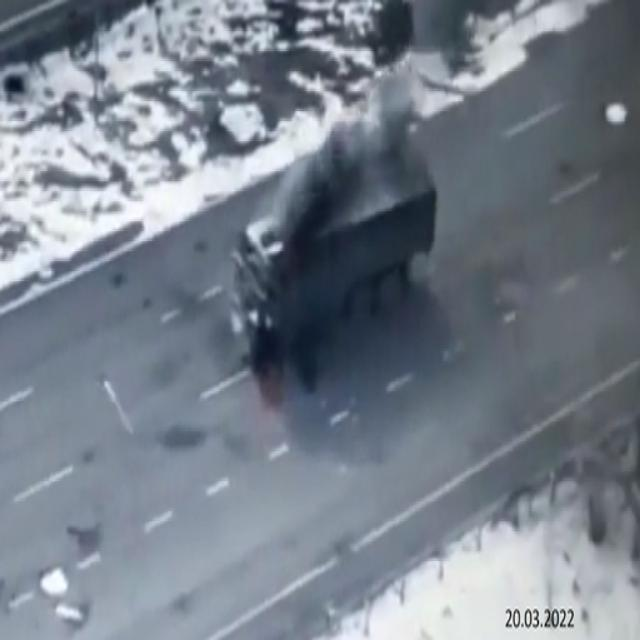TRUCK: (227, 122, 438, 371)
